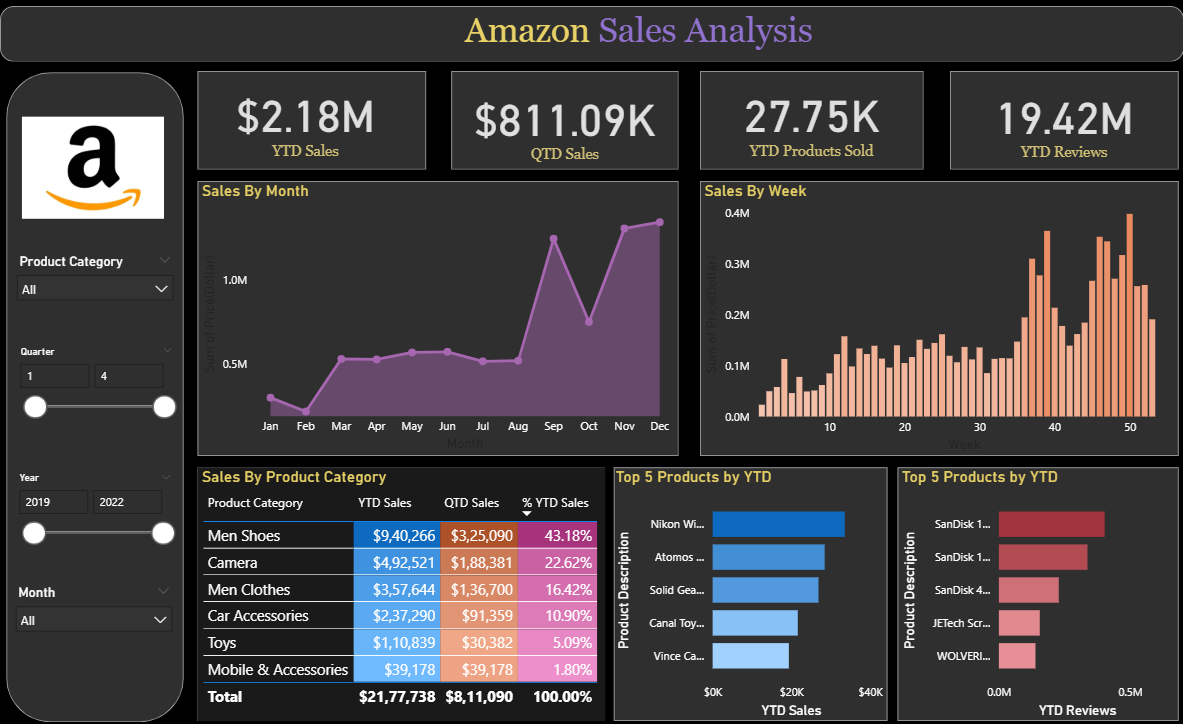

The dashboard page shown, as its layout file describes it:
{"tool":"powerbi","page":{"name":"Page 1","canvas":[1280,793],"ordinal":0},"visuals":[{"type":"card","fields":{"Values":["Amazon_Data.YTD Reviews"]},"box":[1027.1,81.1,247.3,108.1],"z":0},{"type":"card","fields":{"Values":["Amazon_Data.YTD Products Sold"]},"box":[756.8,81.1,241.9,105.4],"z":1000},{"type":"card","fields":{"Values":["Amazon_Data.QTD Sales"]},"box":[504.1,85.1,213.5,104.1],"z":2000},{"type":"card","fields":{"Values":["Amazon_Data.YTD Sales"]},"box":[237.8,81.1,185.1,105.4],"z":3000},{"type":"shape","box":[6.8,82.4,191.9,702.7],"z":4000},{"type":"shape","box":[0,11,1280.3,60.4],"z":5000},{"type":"shape","box":[213.5,200,520.3,297.3],"z":6000},{"type":"shape","box":[213.5,81.1,247.3,106.8],"z":7000},{"type":"shape","box":[756.8,200,517.6,297.3],"z":8000},{"type":"shape","box":[970.3,509.5,304.1,274.3],"z":9000},{"type":"shape","box":[213.5,509.5,440.6,274.3],"z":10000},{"type":"shape","box":[663.5,509.5,296,274.3],"z":11000},{"type":"textbox","box":[497.3,10.8,393.3,60.8],"z":12000},{"type":"shape","box":[487.9,81.1,246,106.8],"z":13000},{"type":"shape","box":[756.8,81.1,241.9,106.8],"z":15000},{"type":"shape","box":[1027.1,81.1,247.3,106.8],"z":16000},{"type":"areaChart","title":"Sales By Month","fields":{"Y":["Sum(Amazon_Data.Price(Dollar))"],"Category":["Date Table.Month"]},"box":[213.5,200,520.3,297.3],"z":17000},{"type":"clusteredColumnChart","title":"Sales By Week","fields":{"Y":["Sum(Amazon_Data.Price(Dollar))"],"Category":["Date Table.Week"]},"box":[756.8,200,517.6,298.7],"z":18000},{"type":"tableEx","title":"Sales By Product Category","fields":{"Values":["Amazon_Data.Product Category","Amazon_Data.YTD Sales","Amazon_Data.QTD Sales","Divide(Amazon_Data.YTD Sales, ScopedEval(Amazon_Data.YTD Sales, []))"]},"box":[213.5,509.5,440.6,274.3],"z":19000},{"type":"clusteredBarChart","title":"Top 5 Products by YTD","fields":{"Category":["Amazon_Data.Product Description"],"Y":["Amazon_Data.YTD Sales"]},"box":[661.4,509.1,299.1,275.8],"z":20000},{"type":"clusteredBarChart","title":"Top 5 Products by YTD","fields":{"Category":["Amazon_Data.Product Description"],"Y":["Amazon_Data.YTD Reviews"]},"box":[970.2,509.1,299.1,275.8],"z":21000},{"type":"slicer","fields":{"Values":["Amazon_Data.Product Category"]},"box":[8.1,273,189.2,87.8],"z":22000},{"type":"slicer","fields":{"Values":["Date Table.Quarter"]},"box":[9.5,373,189.2,87.8],"z":23000},{"type":"slicer","fields":{"Values":["Date Table.Year"]},"box":[8.1,509.5,189.2,87.8],"z":23001},{"type":"slicer","fields":{"Values":["Date Table.Month"]},"box":[6.8,631.1,189.2,87.8],"z":23002},{"type":"image","box":[18.9,104.1,163.5,163.5],"z":23003}]}

Visuals, with their boxes in screenshot pixels (x1, y1, x2, y2), scaled from the page's 1280x793 canvas onto the 1183x724 screenshot:
card - Amazon_Data.YTD Reviews: rect(949, 74, 1178, 173)
card - Amazon_Data.YTD Products Sold: rect(699, 74, 923, 170)
card - Amazon_Data.QTD Sales: rect(466, 78, 663, 173)
card - Amazon_Data.YTD Sales: rect(220, 74, 391, 170)
shape: rect(6, 75, 184, 717)
shape: rect(0, 10, 1182, 65)
shape: rect(197, 183, 678, 454)
shape: rect(197, 74, 426, 172)
shape: rect(699, 183, 1178, 454)
shape: rect(897, 465, 1178, 716)
shape: rect(197, 465, 605, 716)
shape: rect(613, 465, 887, 716)
textbox: rect(460, 10, 823, 65)
shape: rect(451, 74, 678, 172)
shape: rect(699, 74, 923, 172)
shape: rect(949, 74, 1178, 172)
"Sales By Month" areaChart: rect(197, 183, 678, 454)
"Sales By Week" clusteredColumnChart: rect(699, 183, 1178, 455)
"Sales By Product Category" tableEx: rect(197, 465, 605, 716)
"Top 5 Products by YTD" clusteredBarChart: rect(611, 465, 888, 717)
"Top 5 Products by YTD" clusteredBarChart: rect(897, 465, 1173, 717)
slicer - Amazon_Data.Product Category: rect(7, 249, 182, 329)
slicer - Date Table.Quarter: rect(9, 341, 184, 421)
slicer - Date Table.Year: rect(7, 465, 182, 545)
slicer - Date Table.Month: rect(6, 576, 181, 656)
image: rect(17, 95, 169, 244)
